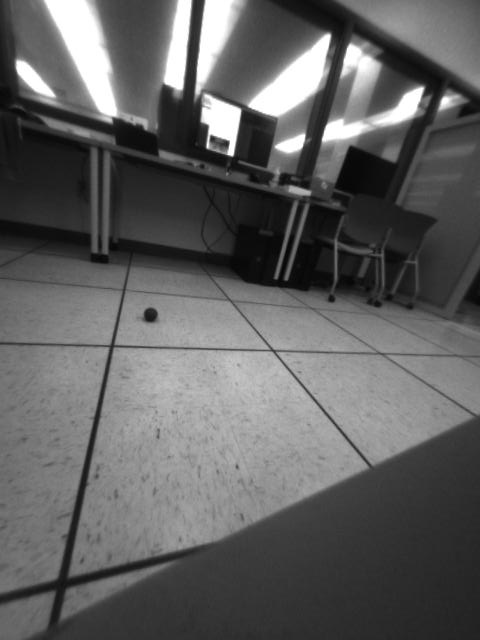dogtoy: (138, 303, 164, 329)
